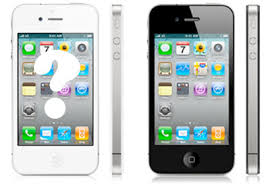iphone: (7, 1, 100, 180), (145, 2, 235, 177)
iphone4: (7, 1, 100, 179), (145, 2, 235, 177)
